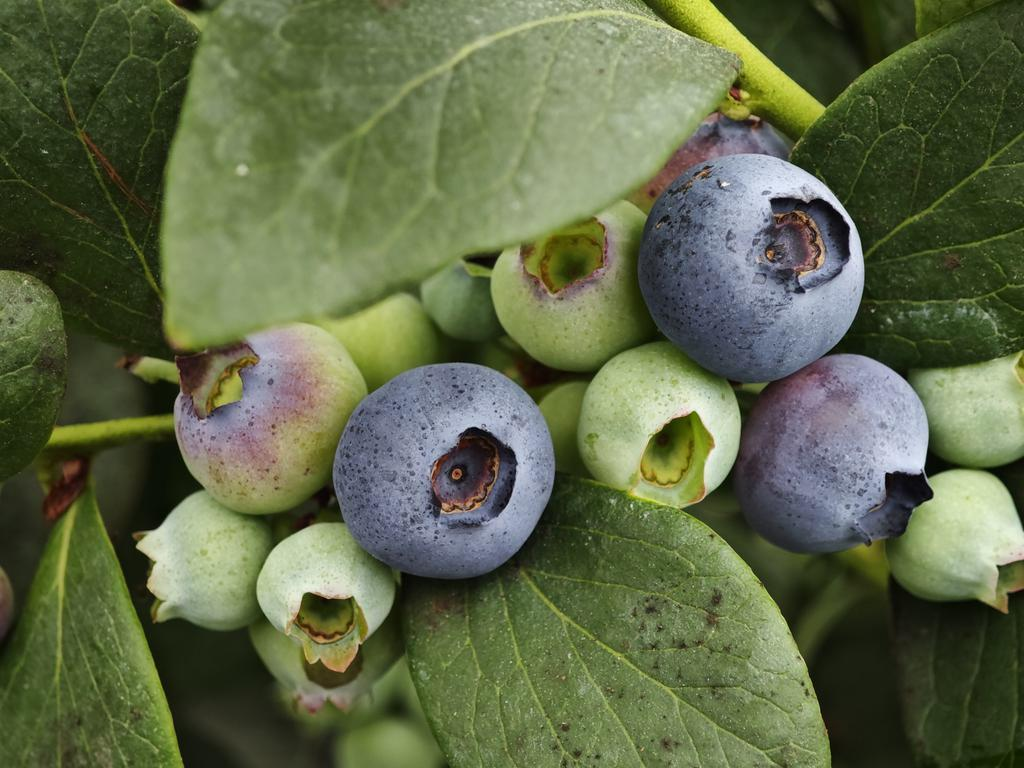RipeBlueBerry: (637, 148, 871, 387), (329, 359, 560, 581), (739, 348, 935, 560)
